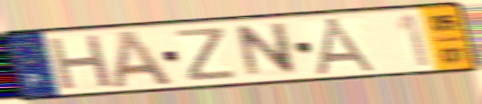1: (395, 11, 432, 70)
A: (313, 15, 383, 77), (109, 28, 177, 91)
H: (46, 32, 116, 93)
N: (233, 20, 301, 81)
Z: (173, 25, 240, 83)
